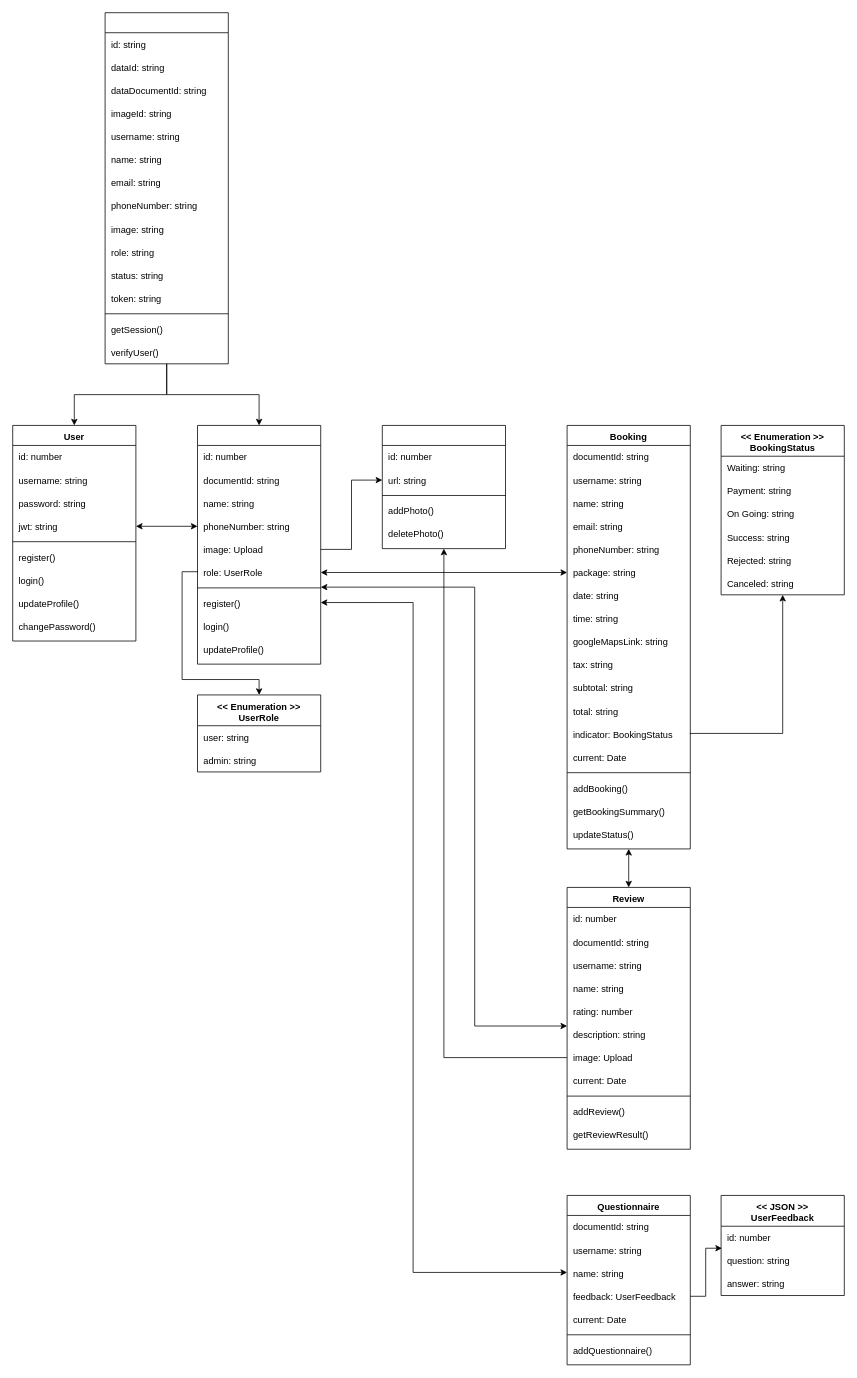
The diagram is 857 pixels wide and 1378 high, and some of its shapes have lost their labels. The box of each missing label's shape, as (x1, y1, x2, y2) in pixels:
Data: (197, 425, 321, 664)
NextAuth/Session: (104, 12, 228, 364)
Upload: (382, 425, 506, 549)
